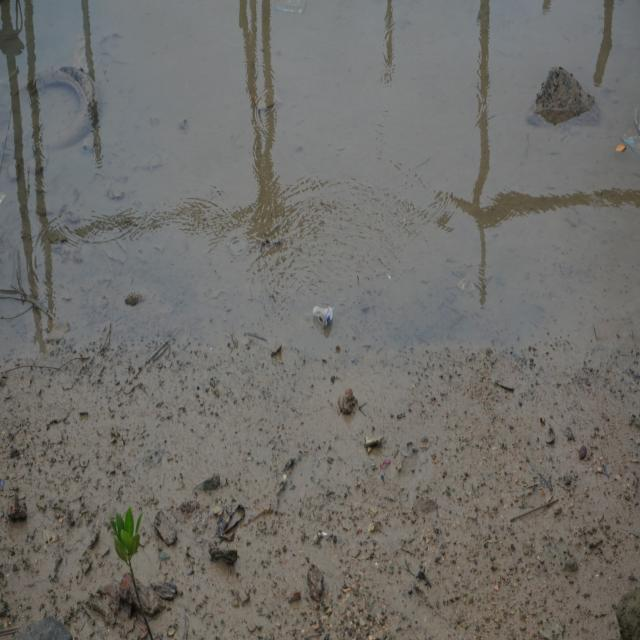Bungkus Minuman: (312, 300, 338, 330)
